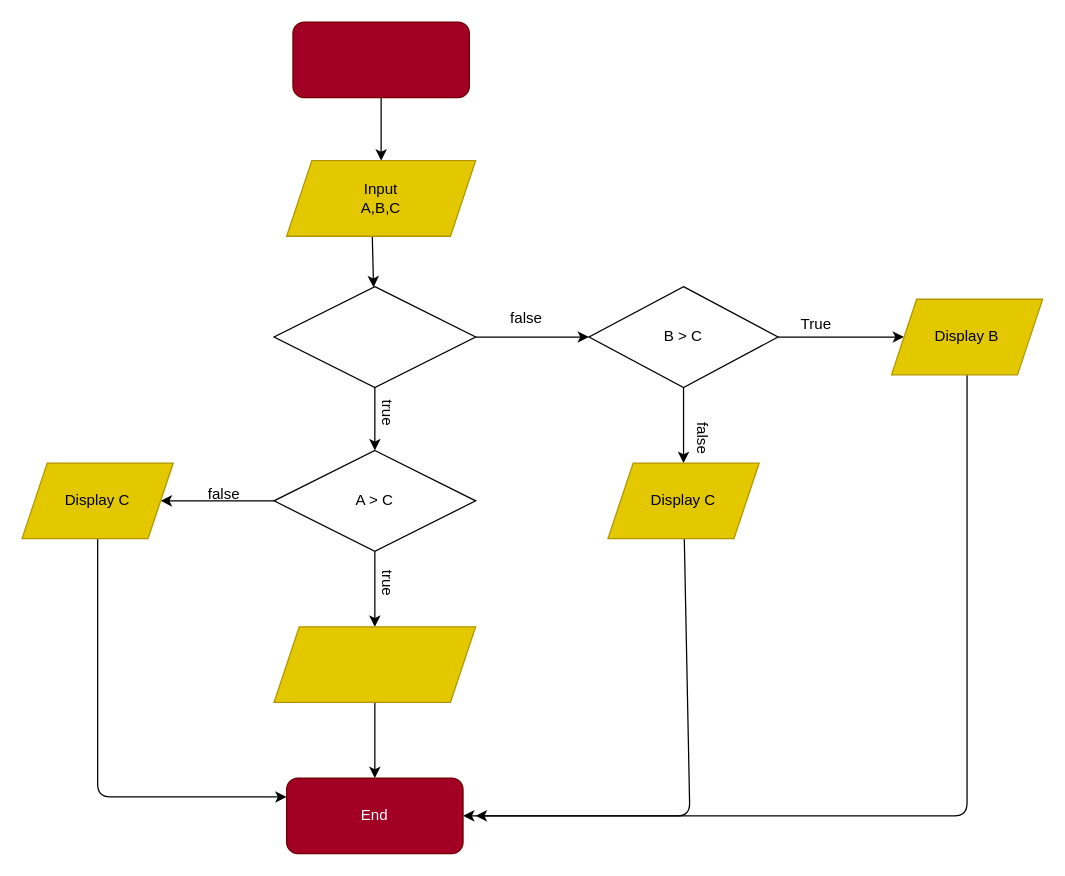
Image size: 1065x876. Some labels were removed from this diagram. Here are the shapes that lost their labels. From the top down, the centre of each, then its label:
(380,59): Start
(374,336): A > B
(374,664): DisPlay
